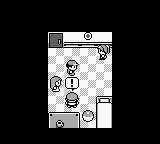main: (66, 60, 79, 75)
no-caminable: (0, 31, 159, 143), (64, 32, 112, 47), (97, 97, 112, 128), (49, 113, 79, 128)
npc: (65, 93, 79, 108), (97, 45, 110, 60), (50, 76, 62, 92)
poke-ball: (82, 110, 94, 121)
puerta: (49, 33, 62, 47)
